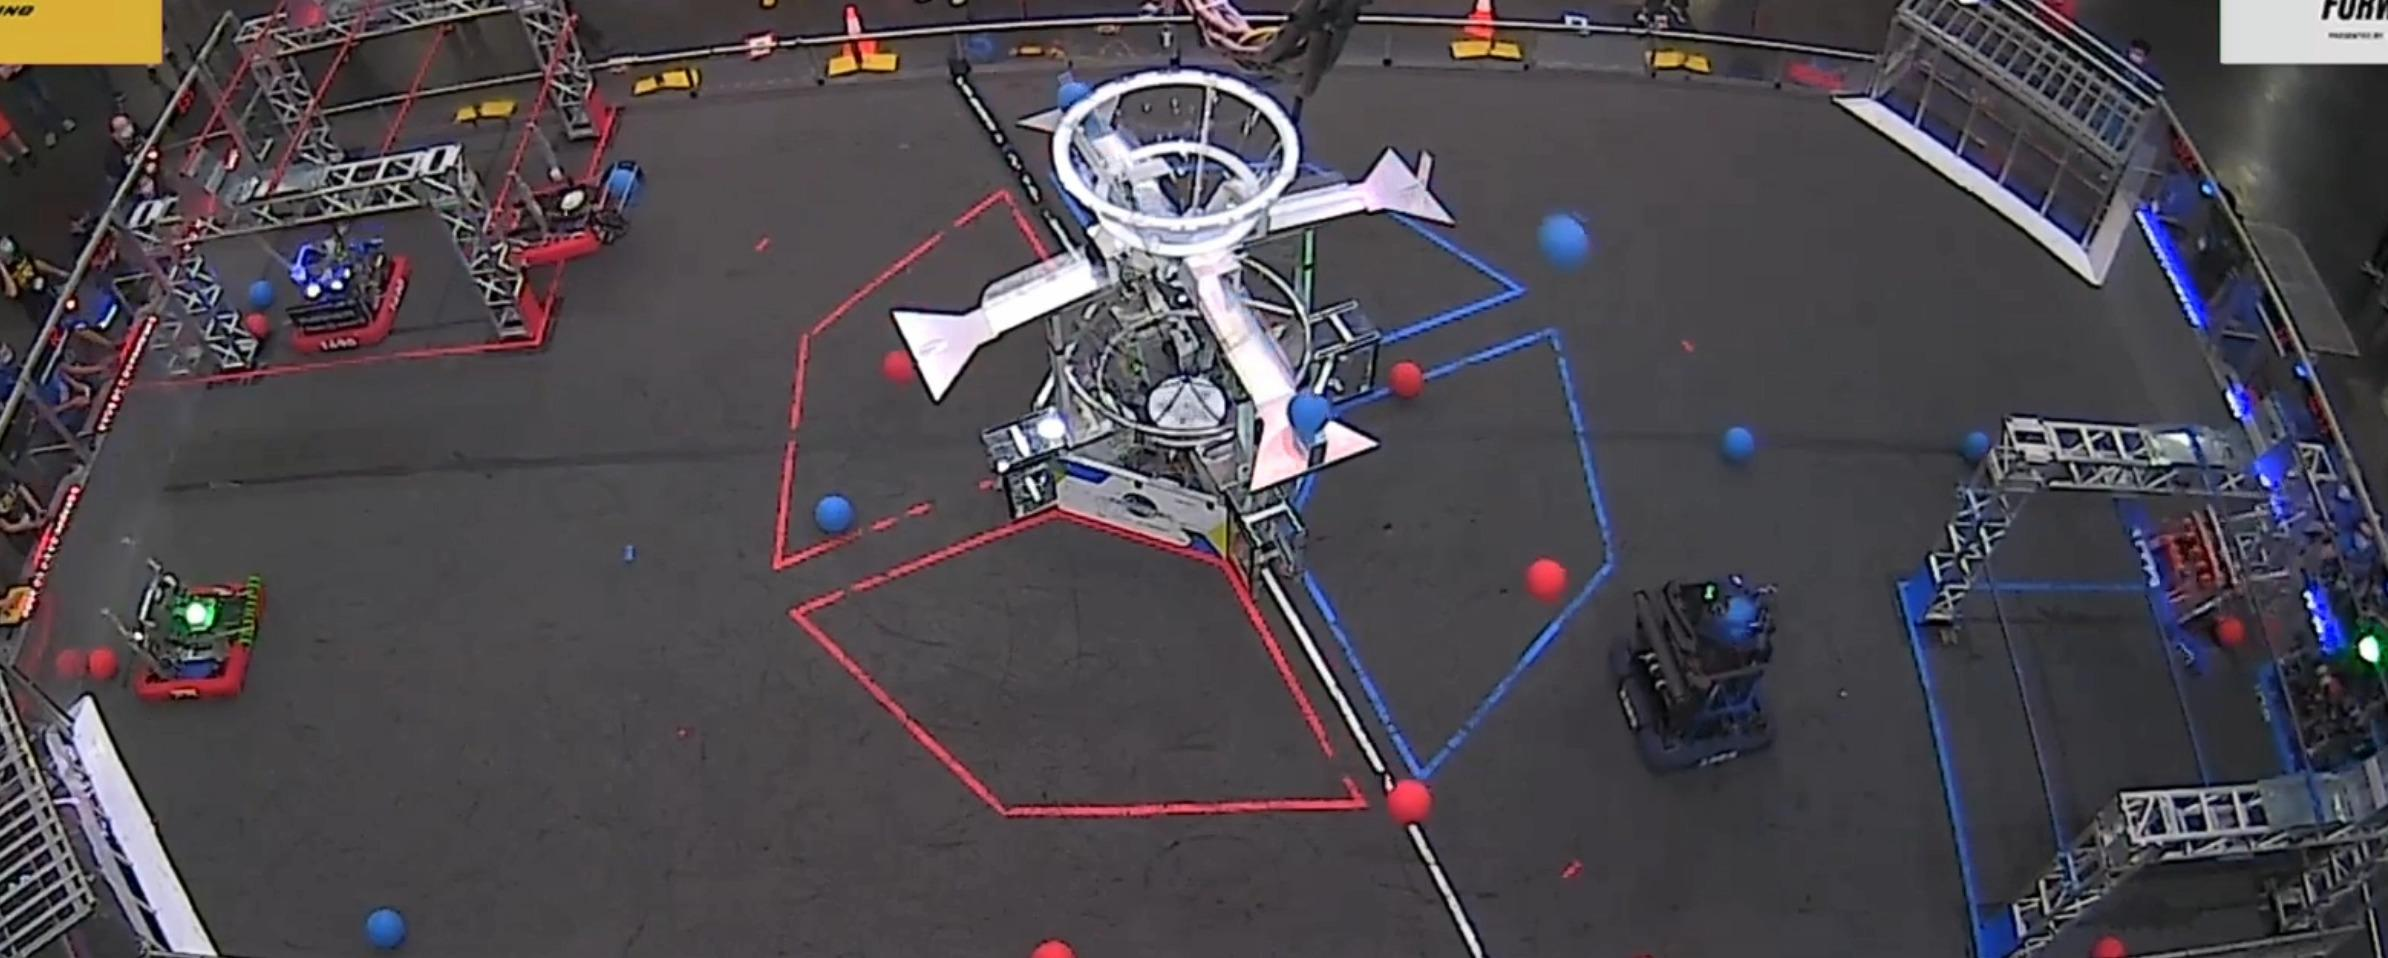Robots: (1610, 573, 1778, 771), (2125, 478, 2333, 631), (127, 564, 264, 702), (2280, 610, 2388, 767), (282, 220, 406, 349), (506, 164, 640, 264)
